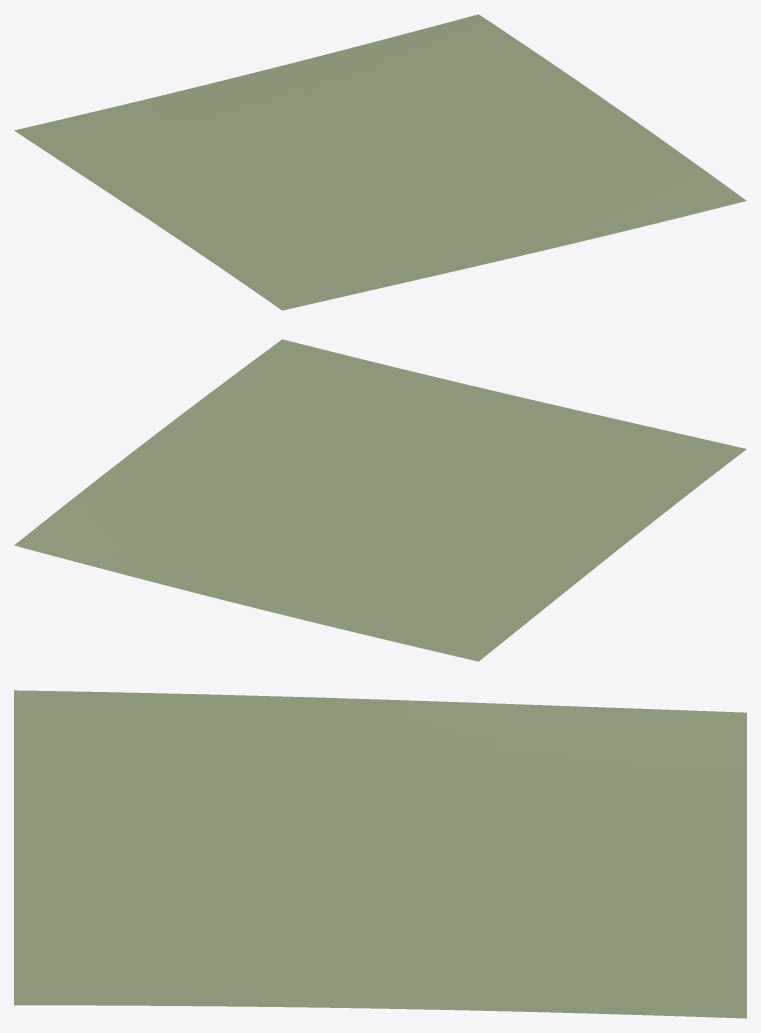
The model's file is expanse-3-12.glb.
3 views of the same model, one above another, from view 1: azimuth 30°, elevation 25°; view 2: azimuth 150°, elevation 25°; view 3: azimuth 270°, elevation 25° (orthographic). The views are drawn at different scales.
Visible parts, largest first — view 1: expanse-3-12; view 2: expanse-3-12; view 3: expanse-3-12.
Part boxes in pixels (box(x1,y1,x2,y2)): expanse-3-12: box(14, 14, 746, 310); expanse-3-12: box(14, 339, 746, 661); expanse-3-12: box(14, 690, 746, 1018).
Size of the model in its own units: 256 by 9.12 by 256.
